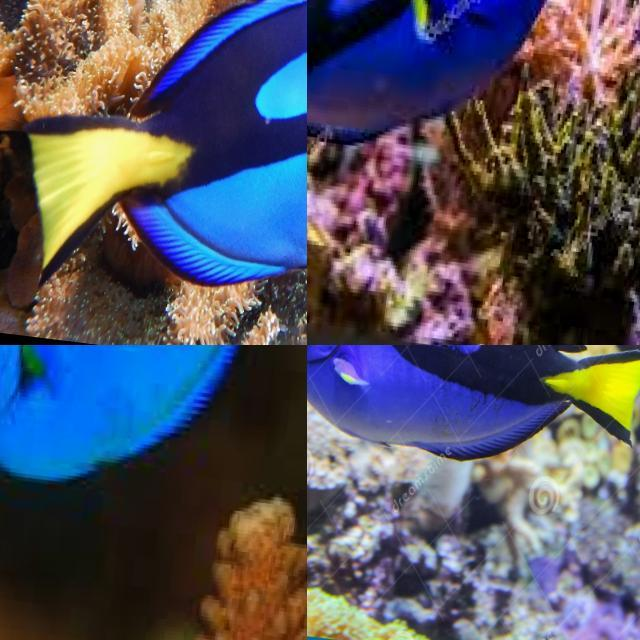BlueTang: (31, 0, 307, 278), (313, 344, 640, 464), (307, 0, 552, 122), (0, 345, 241, 468)
